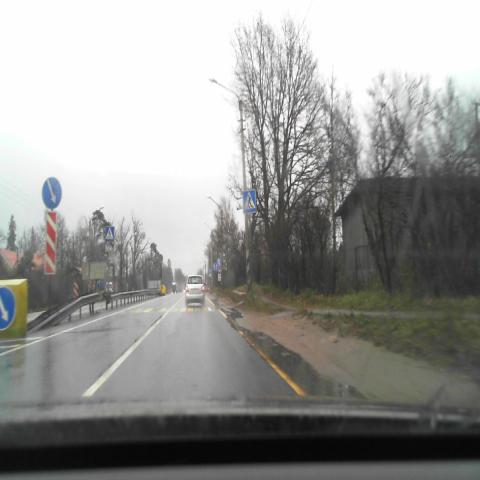4_2_1: (0, 286, 16, 331), (42, 177, 62, 209)
5_19_1: (243, 190, 256, 214), (106, 226, 114, 242)
